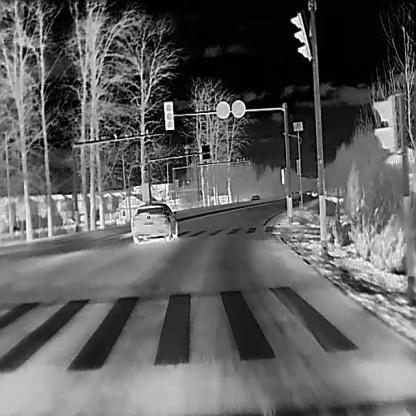car: (130, 202, 177, 244), (250, 193, 260, 201), (310, 190, 316, 196)
